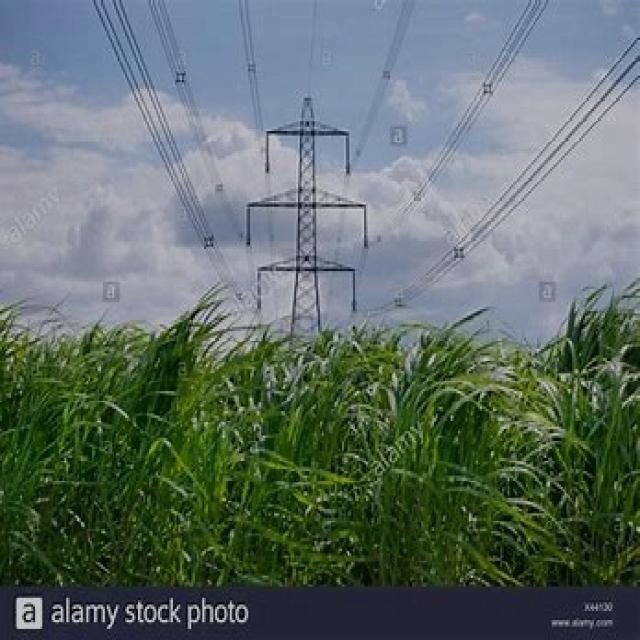utility poles: (250, 96, 362, 587)
